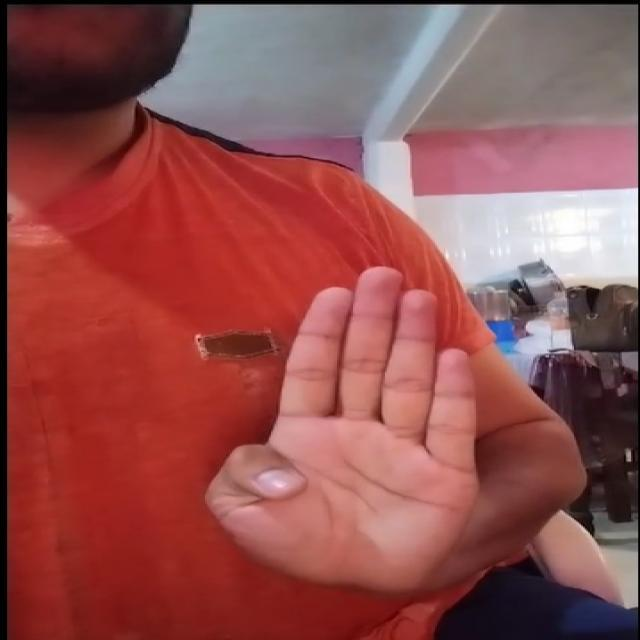B: (196, 257, 523, 608)
